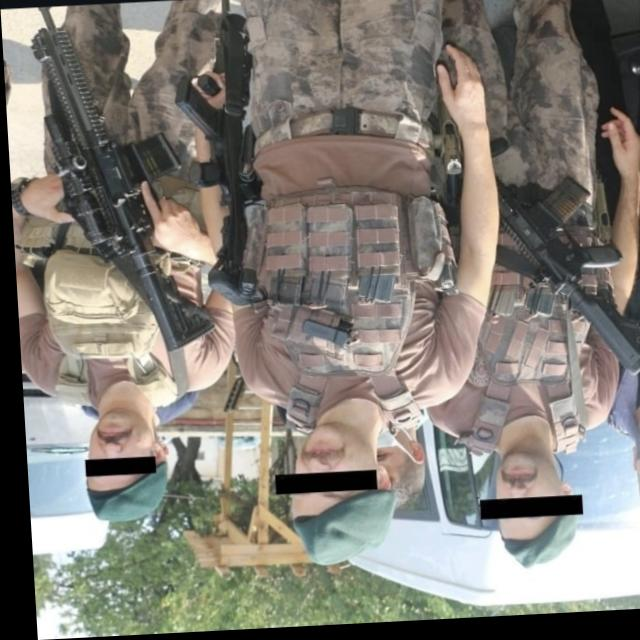poh_personel: (185, 0, 512, 575), (403, 0, 640, 575), (0, 0, 238, 525)
